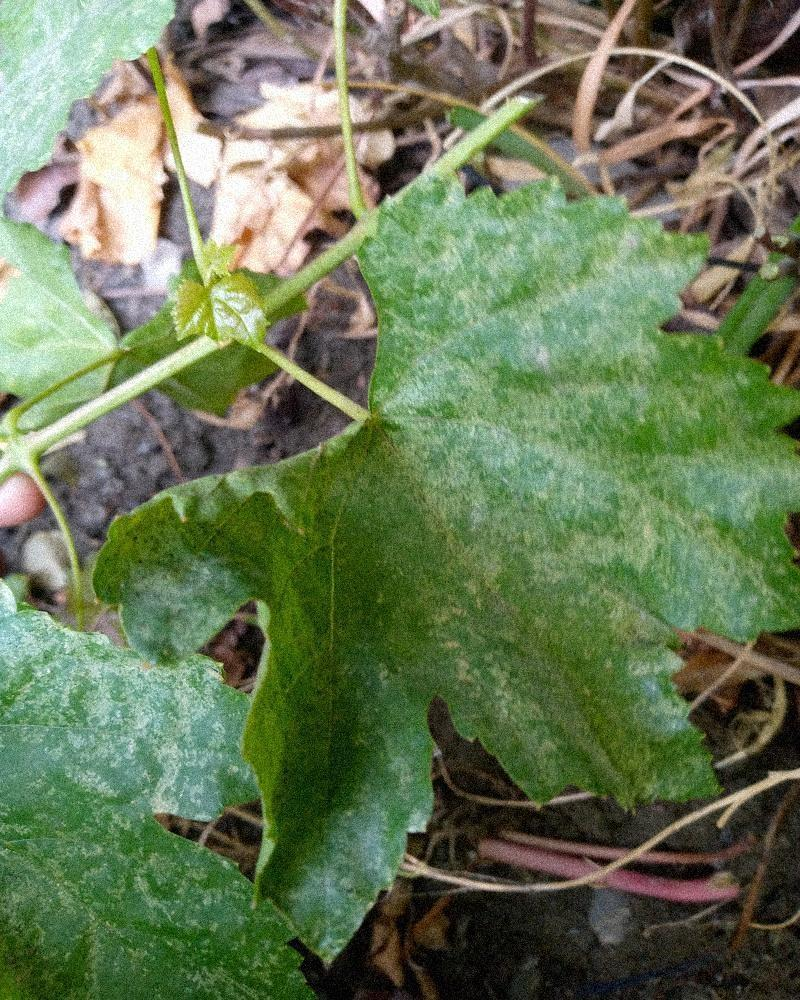Powdery-Mildew: (407, 442, 670, 582), (519, 220, 691, 374), (423, 183, 566, 331), (661, 444, 799, 529), (616, 647, 705, 758), (702, 512, 760, 576), (635, 480, 698, 537), (522, 439, 614, 478), (613, 582, 690, 627), (409, 414, 519, 442)
